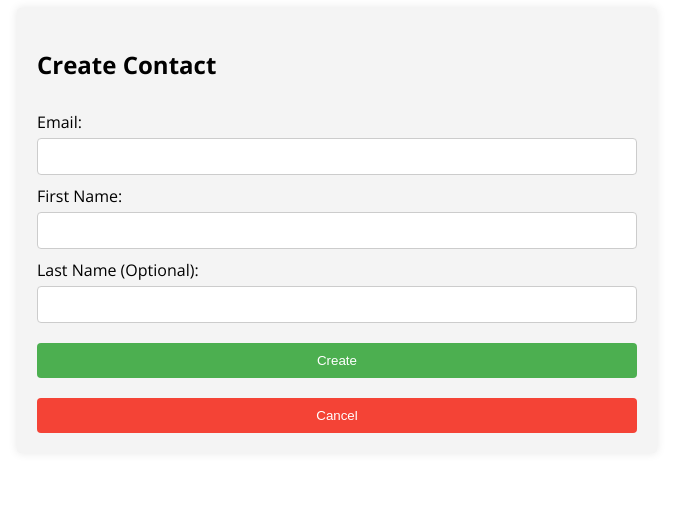
Test case: CreateContactPage Component › Gives the correct error message when first name is too big
This screenshot has width=675, height=515.
Type "test1@example.com" into the field labelled "Email:" at (337, 156), box x1=37 y1=138 x2=637 y2=175
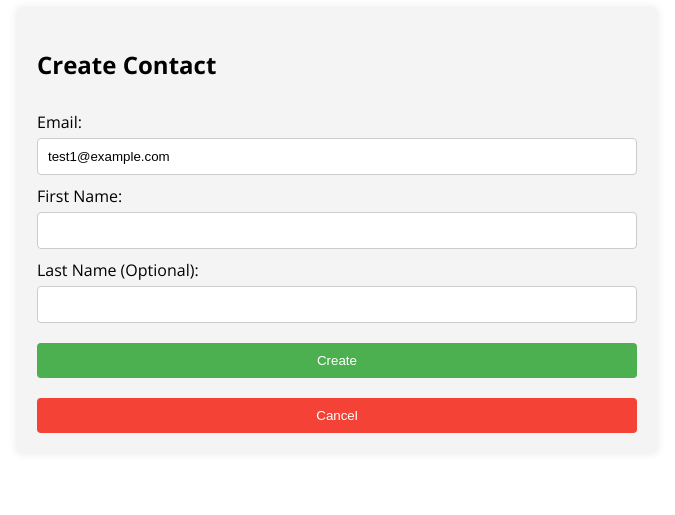
Type "bbbbbbbbbbbbbbbbbbbbbbbbbb" into the field labelled "First Name:" at (337, 230), box x1=37 y1=212 x2=637 y2=249
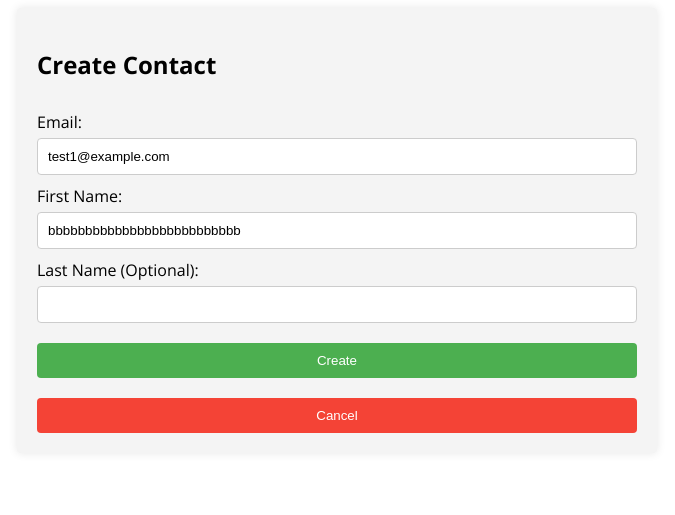
Click the button "Create" at (337, 360), box x1=37 y1=343 x2=637 y2=378
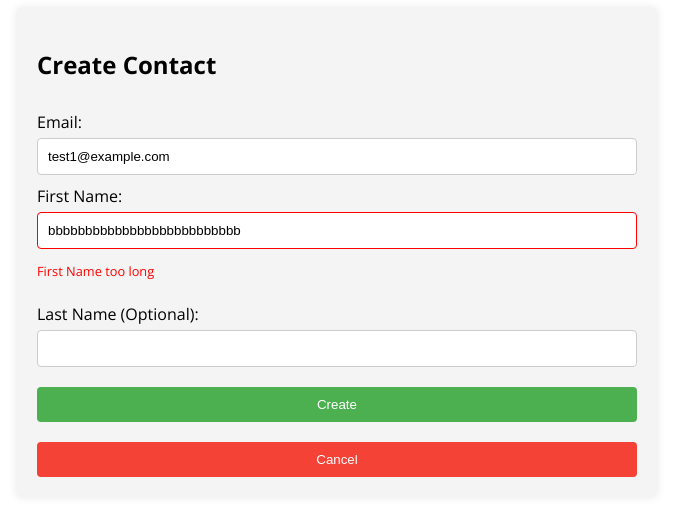
expect the text "First Name too long" is shown: met, box x1=37 y1=262 x2=154 y2=280
